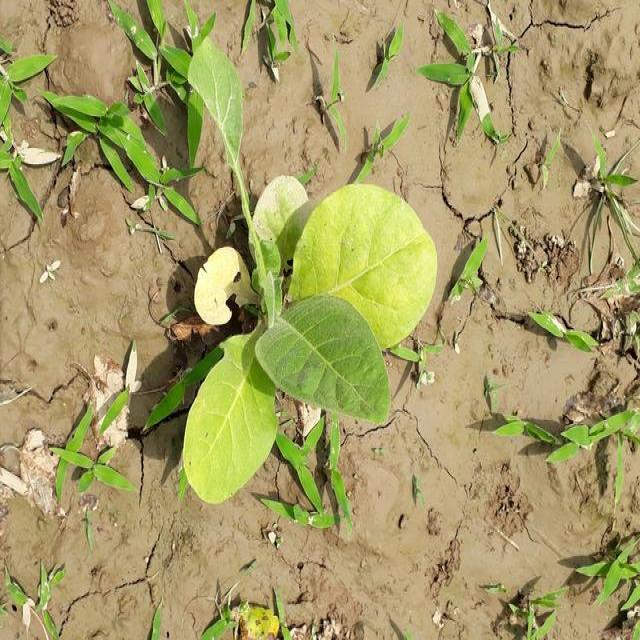crop: (171, 18, 442, 514)
